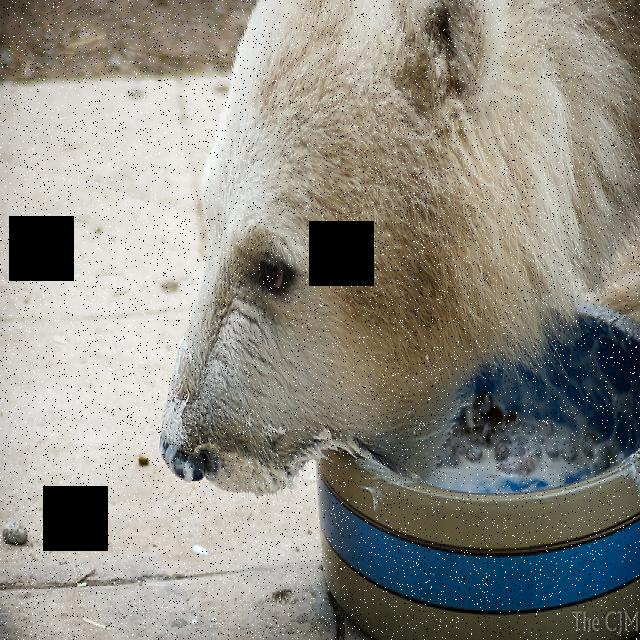Bear: (155, 0, 640, 507)
